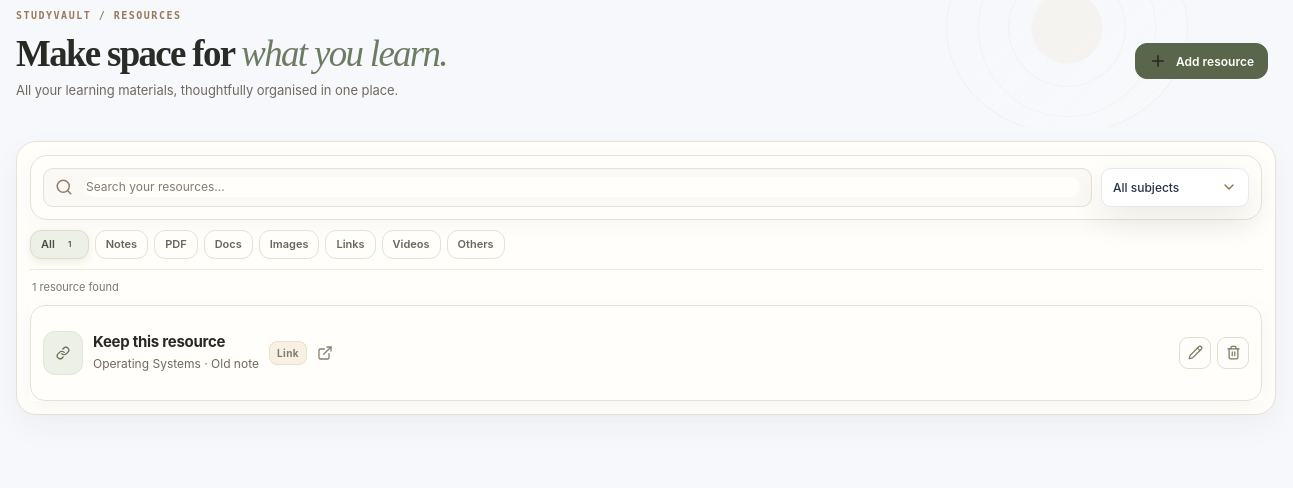
Test: resource workflows › keeps a resource visible when deletion fails
This screenshot has width=1293, height=488.
Click the button named "Delete Keep this resource".
click(1233, 353)  # box [1217,337,1249,369]
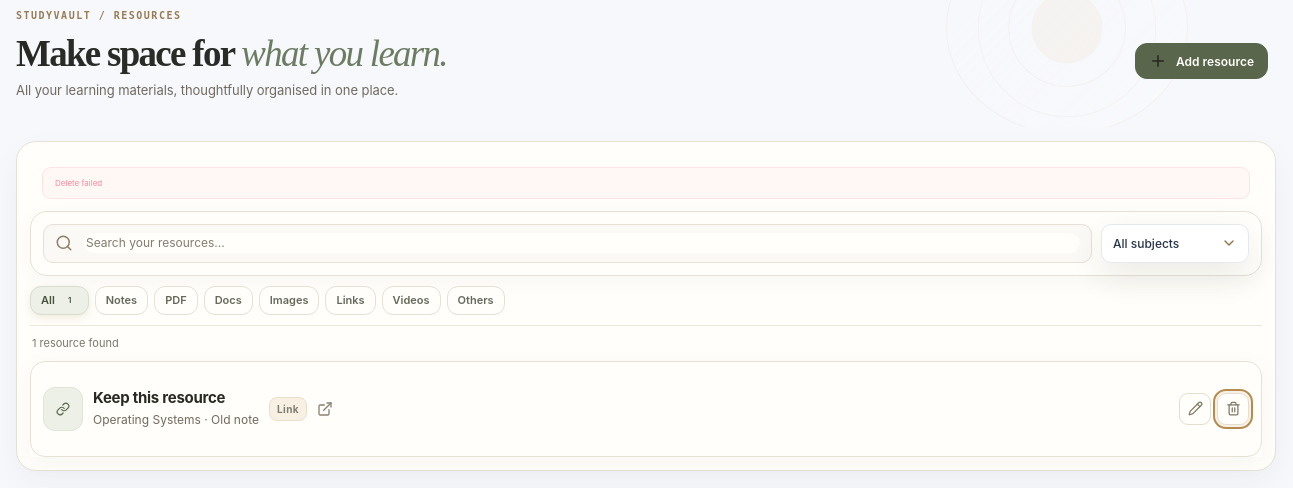
Expected: the heading "Keep this resource" is shown, [93,388,225,407]
Expected: the message reads "Delete failed", [55,178,102,188]
